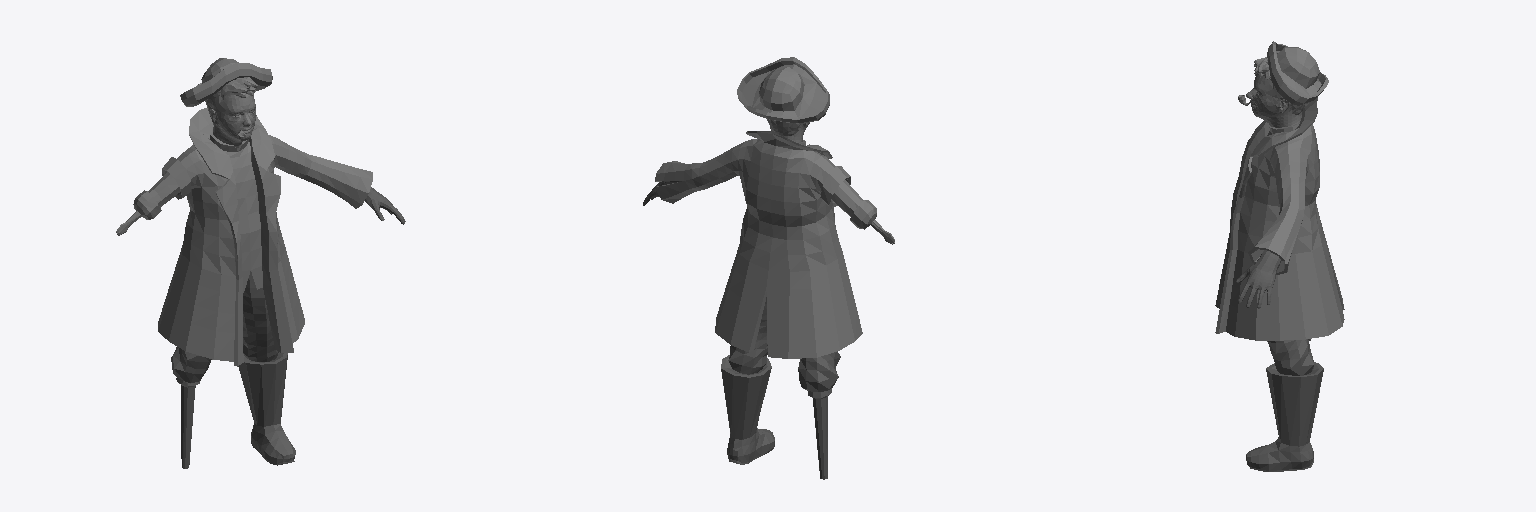
The picture shows the model from 3 angles: view 1: azimuth 30°, elevation 25°; view 2: azimuth 150°, elevation 25°; view 3: azimuth 270°, elevation 25°; orthographic projection.
Visible parts, largest first — view 1: Jacket3, polySurface16, polySurface5, polySurface11, HeadLow_polySurface1, pCube1, polySurface17, polySurface7, polySurface6, polySurface12; view 2: Jacket3, pCube1, polySurface16, polySurface11, polySurface17, polySurface7, polySurface6, HeadLow_polySurface1; view 3: Jacket3, polySurface16, pCube1, HeadLow_polySurface1, polySurface12, polySurface11.
Boxes of the visible parts, <box> form: Jacket3: <box>158,108,372,366</box>; polySurface16: <box>238,352,295,465</box>; polySurface5: <box>210,130,262,292</box>; polySurface11: <box>171,279,278,383</box>; HeadLow_polySurface1: <box>205,77,257,148</box>; pCube1: <box>180,58,272,106</box>; polySurface17: <box>176,378,199,468</box>; polySurface7: <box>116,190,161,235</box>; polySurface6: <box>148,172,180,207</box>; polySurface12: <box>365,187,405,224</box>; Jacket3: <box>655,131,862,358</box>; pCube1: <box>737,57,829,123</box>; polySurface16: <box>721,355,774,464</box>; polySurface11: <box>728,297,840,391</box>; polySurface17: <box>808,388,831,479</box>; polySurface7: <box>850,200,894,244</box>; polySurface6: <box>832,180,863,216</box>; HeadLow_polySurface1: <box>767,119,809,142</box>; Jacket3: <box>1215,97,1344,340</box>; polySurface16: <box>1246,362,1323,471</box>; pCube1: <box>1267,41,1328,105</box>; HeadLow_polySurface1: <box>1246,57,1304,127</box>; polySurface12: <box>1236,250,1281,308</box>; polySurface11: <box>1267,339,1313,375</box>.
Bounding box in the file's own units: 24.81 × 35.78 × 10.4.